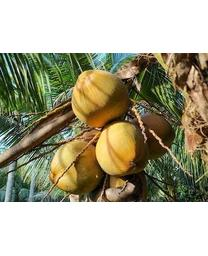coconut: (70, 70, 130, 127), (48, 137, 105, 195), (96, 122, 148, 175), (129, 113, 177, 159)
